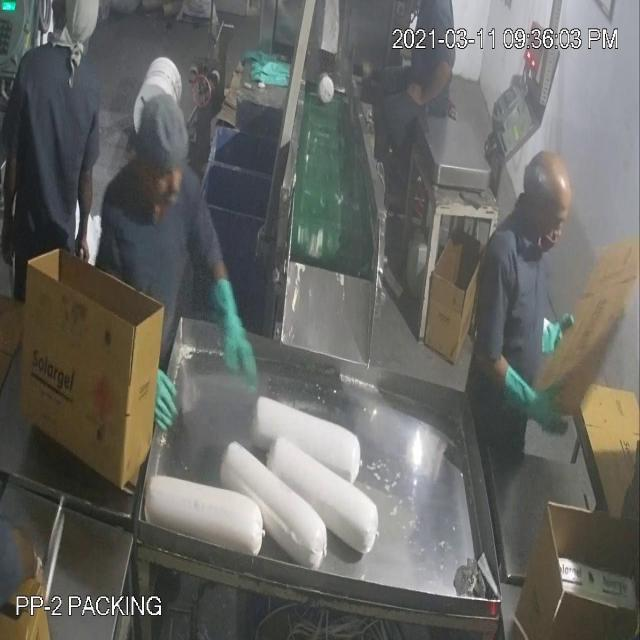No_Gloves: (15, 66, 535, 394)
